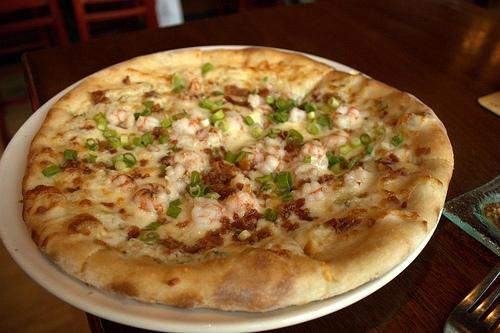green onion: (210, 108, 292, 188), (185, 182, 212, 195), (286, 128, 304, 146), (139, 230, 160, 242), (267, 112, 288, 124), (162, 85, 184, 96), (166, 204, 182, 219), (225, 151, 246, 162), (41, 166, 60, 177), (306, 122, 320, 136), (214, 119, 229, 132), (141, 132, 154, 146), (107, 136, 122, 148), (392, 134, 405, 147), (347, 156, 360, 169), (120, 134, 132, 148), (123, 152, 137, 164), (328, 96, 340, 110), (304, 102, 319, 113), (82, 154, 98, 164), (264, 208, 277, 220), (318, 113, 329, 127), (275, 100, 290, 110), (97, 116, 107, 131), (255, 175, 271, 184), (360, 133, 372, 145), (171, 72, 182, 85), (64, 150, 78, 160), (191, 171, 200, 186), (350, 136, 361, 148), (338, 144, 350, 155), (251, 127, 263, 138), (160, 118, 173, 128), (204, 192, 220, 200), (198, 100, 212, 109), (114, 161, 126, 171), (200, 63, 212, 72), (122, 159, 134, 168), (132, 138, 145, 146), (86, 138, 96, 148), (158, 135, 169, 144), (282, 194, 294, 202), (330, 156, 338, 166), (266, 96, 276, 104), (208, 104, 218, 112), (326, 151, 334, 161), (268, 130, 278, 138), (142, 100, 154, 106)
